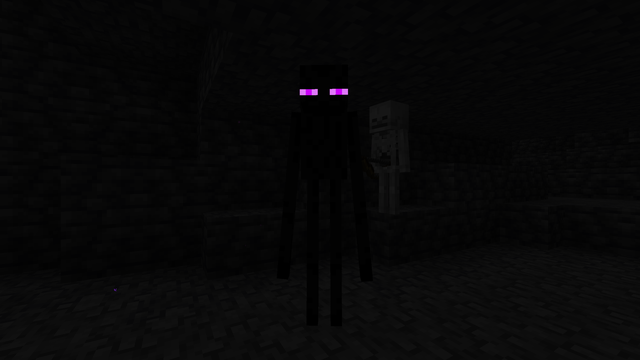endermens: (289, 48, 361, 345)
squelettes: (371, 99, 412, 216)
